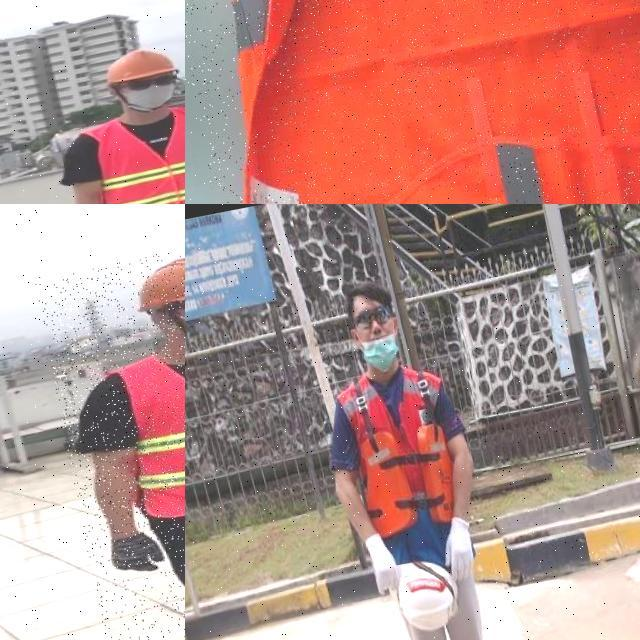helmet: (388, 554, 463, 637), (117, 240, 185, 315), (96, 39, 182, 90)
vest: (185, 0, 640, 204), (335, 358, 478, 576), (106, 333, 185, 526), (87, 103, 185, 204)
